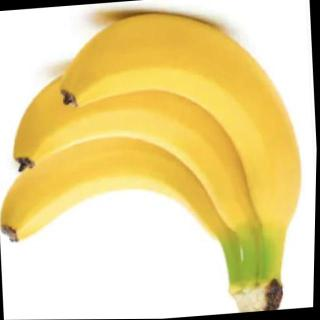banana: (52, 0, 310, 244), (4, 47, 272, 251), (0, 113, 252, 254)
